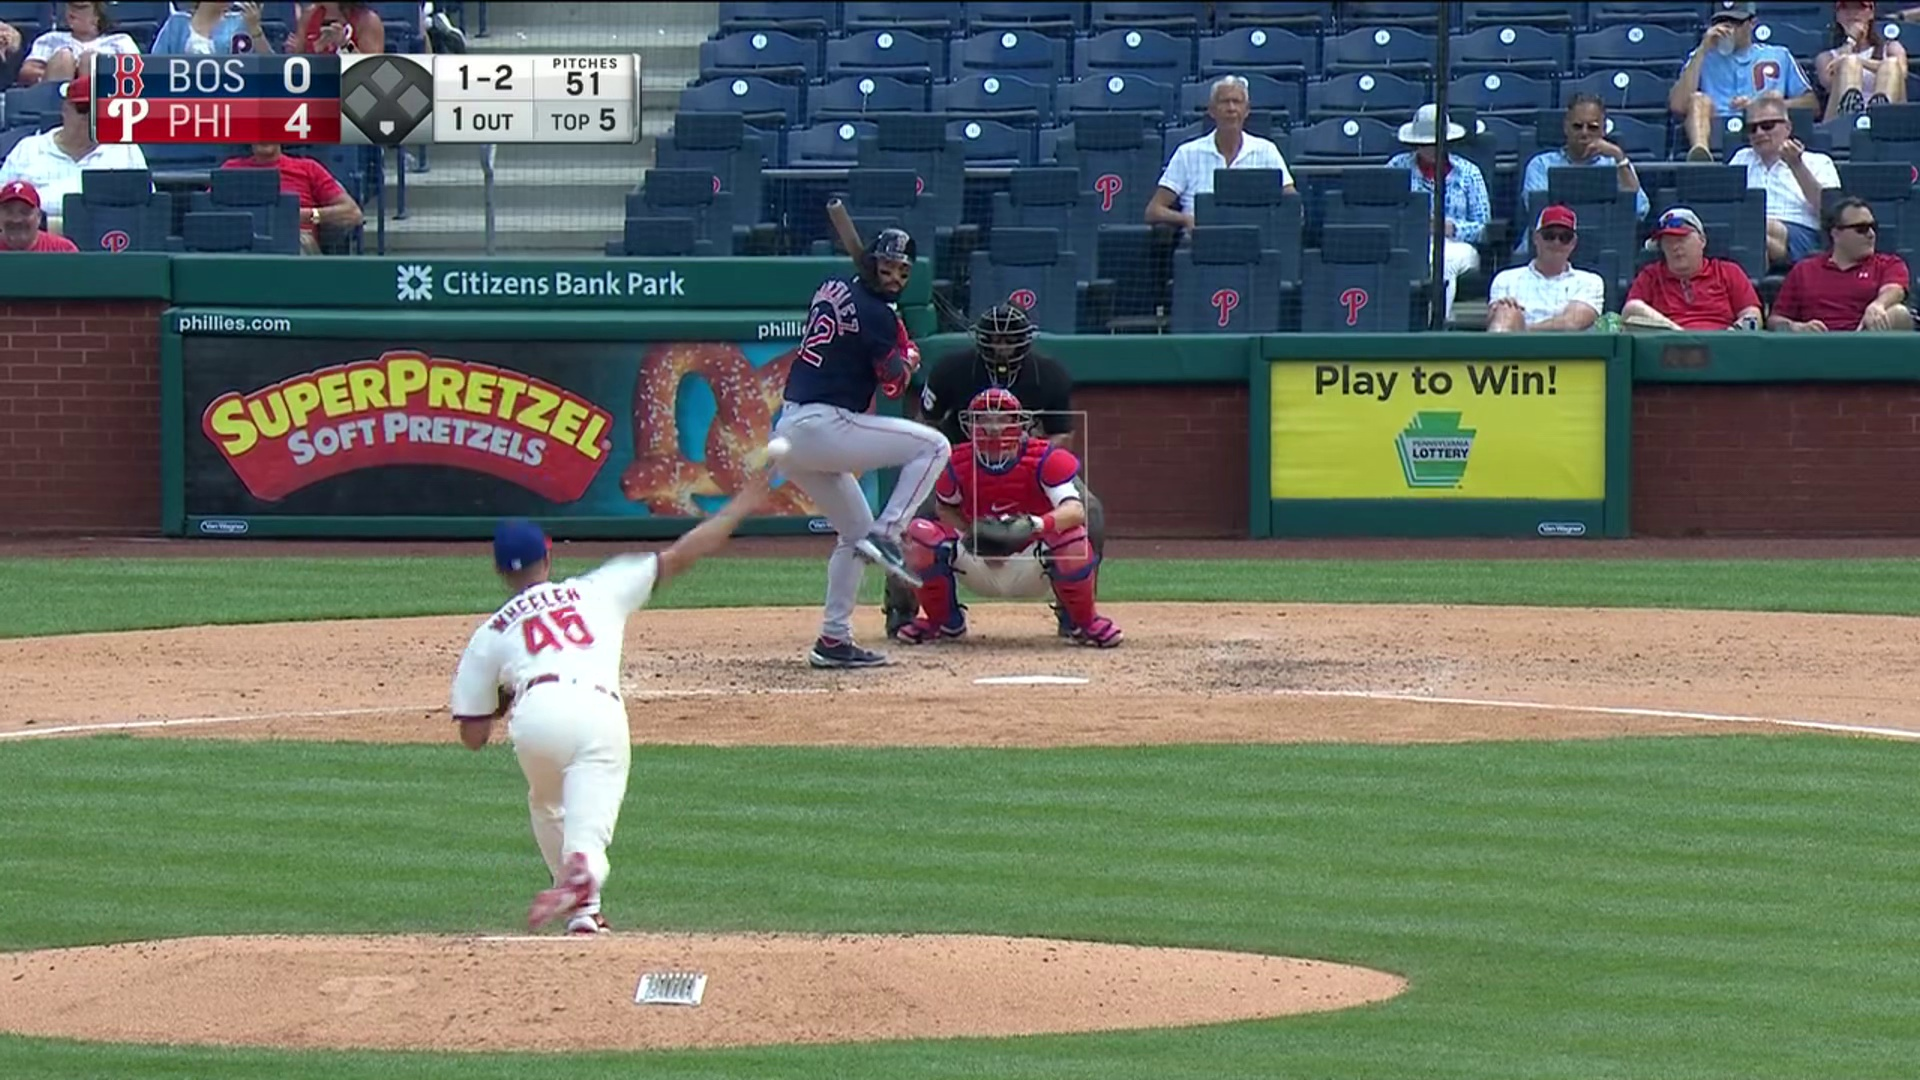baseball: (767, 436, 791, 456)
